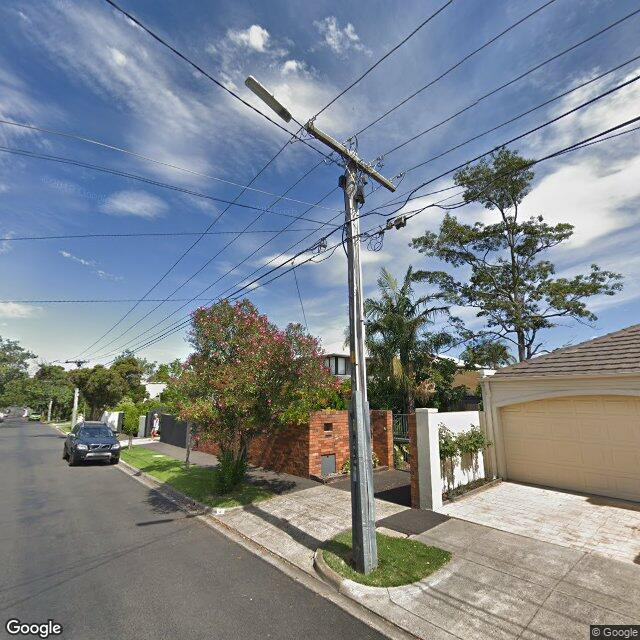crossarm: (292, 116, 405, 193), (65, 359, 90, 366)
streetlight: (245, 76, 309, 130)
timber-pole: (344, 163, 377, 573), (72, 360, 80, 430)
